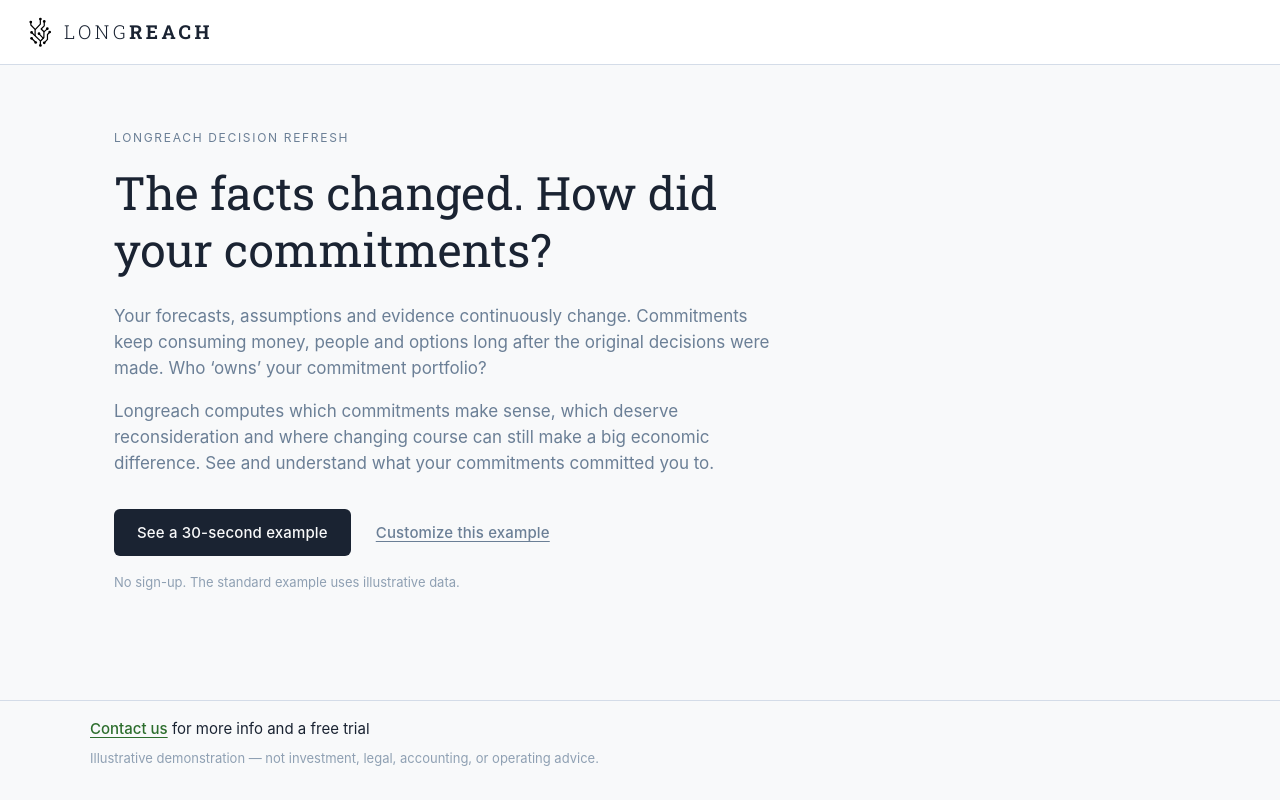
the chevron step rail › offers no control for steps not yet reached
The image size is (1280, 800).
Click the button "See a 30-second example" at point(232, 532), box [114,509,351,556]
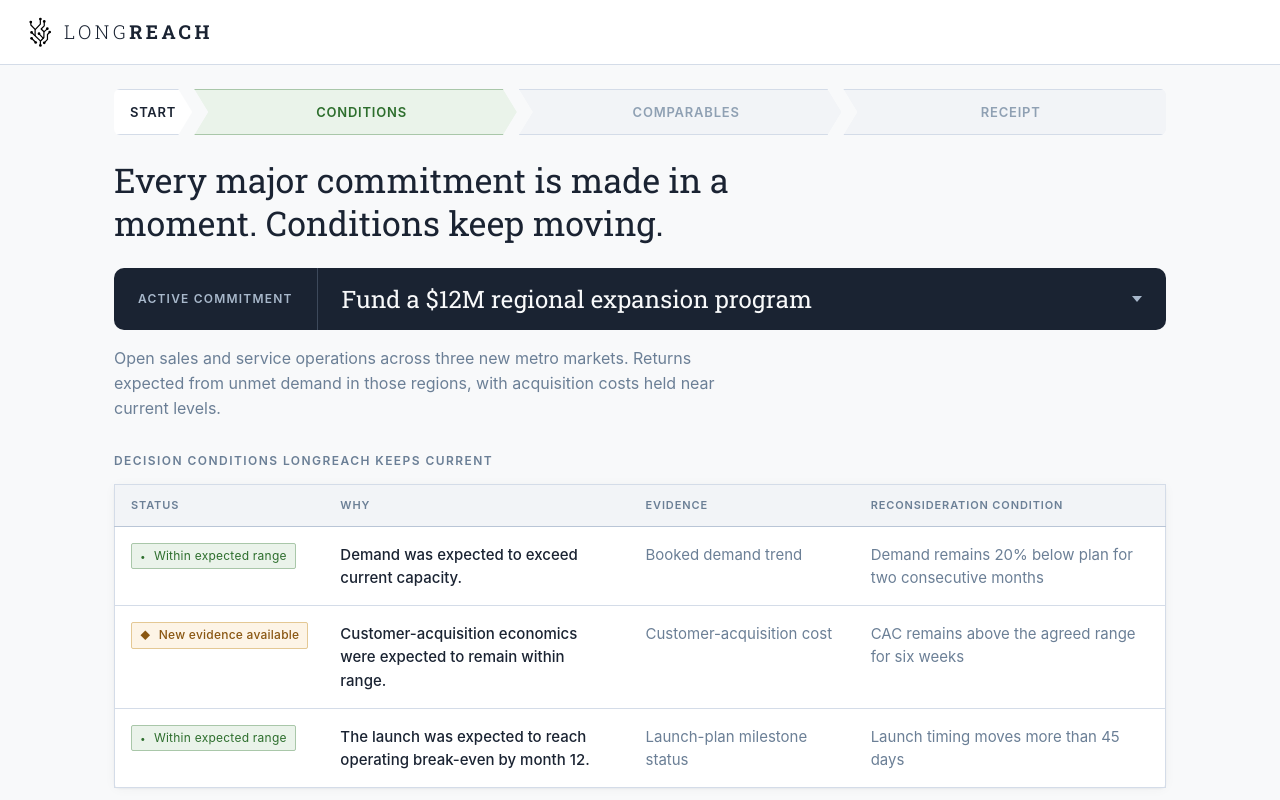
expect the text "Receipt" is shown: met, box [981,104,1041,120]
